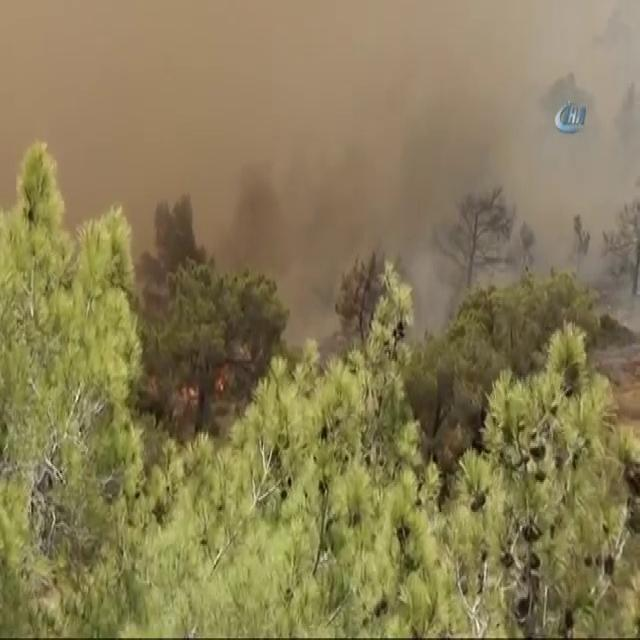Fire: (178, 357, 238, 409)
Smoke: (66, 32, 467, 220)
